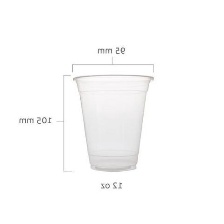glass: (64, 72, 161, 174)
